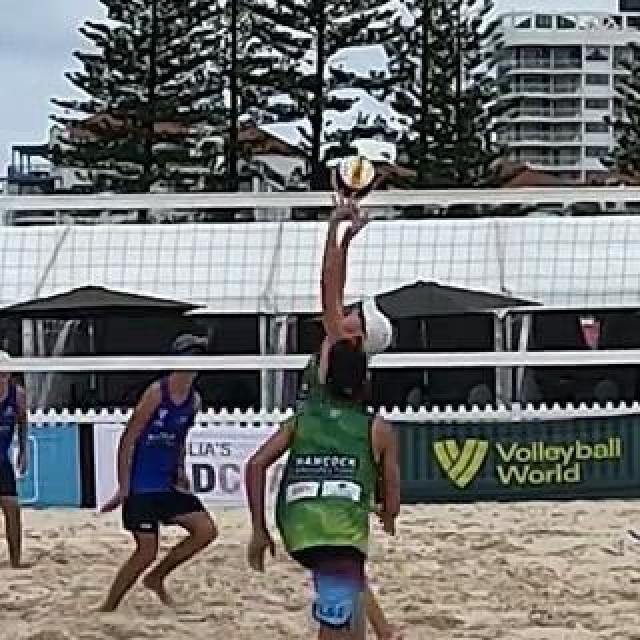volleyball: (335, 155, 377, 199)
